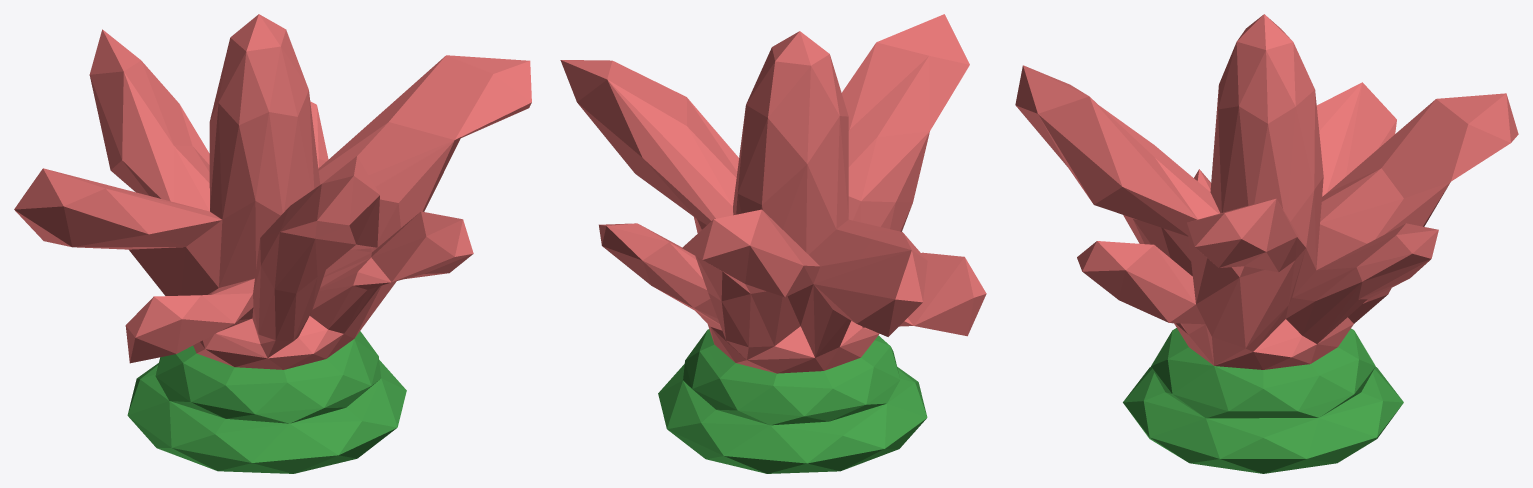
Rendered from fantasy_plant_073.fbx.
3 views of the same model, side by side, from view 1: azimuth 30°, elevation 25°; view 2: azimuth 150°, elevation 25°; view 3: azimuth 270°, elevation 25° (orthographic). The views are drawn at different scales.
Visible parts, largest first — view 1: fantasy_plant.073; view 2: fantasy_plant.073; view 3: fantasy_plant.073.
Boxes of the visible parts, x1=… form: fantasy_plant.073: x1=14, y1=14, x2=531, y2=473; fantasy_plant.073: x1=560, y1=14, x2=986, y2=473; fantasy_plant.073: x1=1015, y1=14, x2=1518, y2=473.
Size of the model in its own units: 481 by 444 by 477.
Materials: 1 (1 with a texture image).
